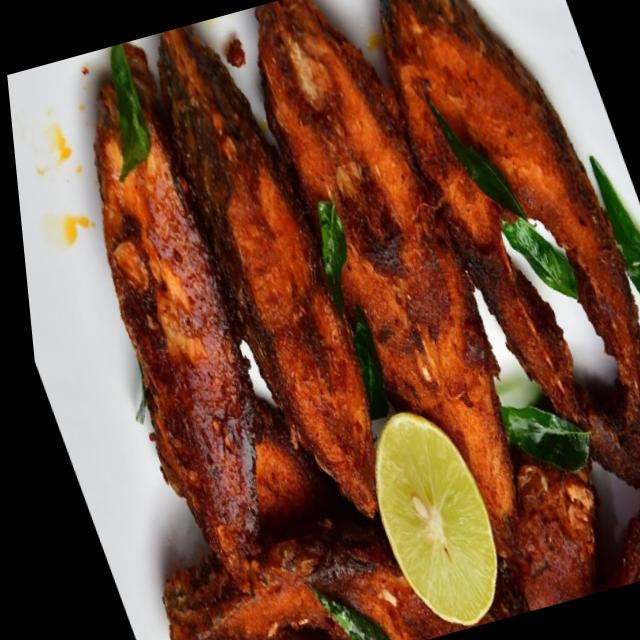FISH FRY: (95, 0, 640, 640)
